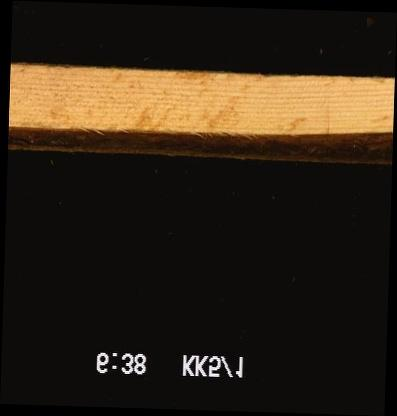wave: (8, 124, 392, 159)
